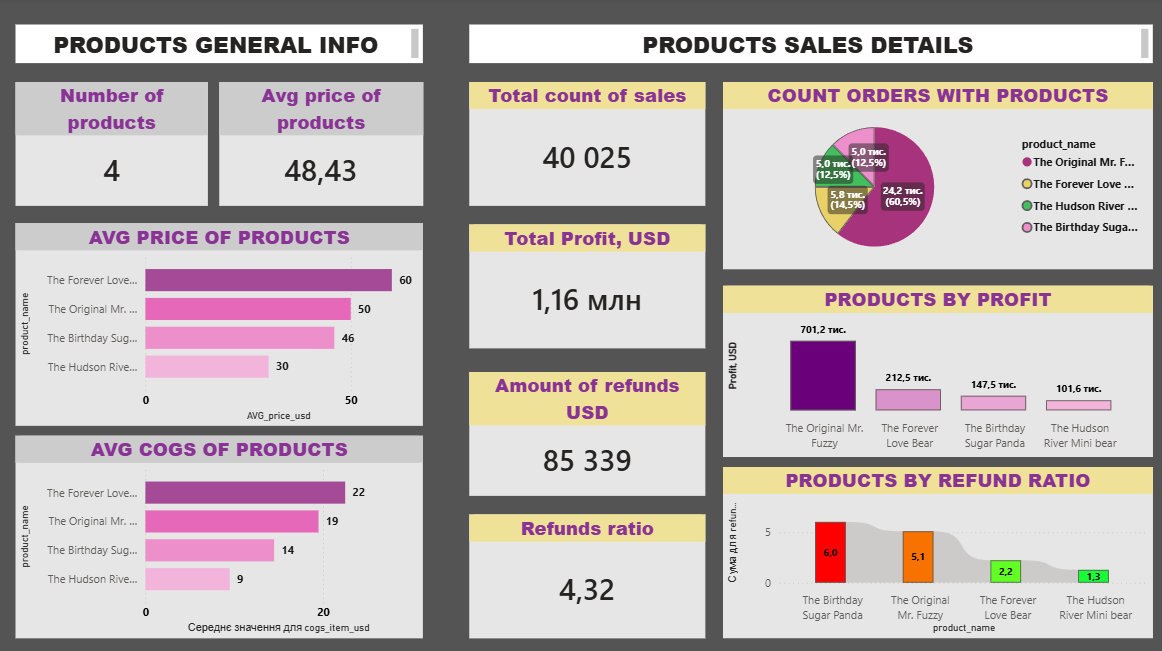

Layout of this report page (visuals, bound fields, positions):
{"tool":"powerbi","page":{"name":"Products","canvas":[1280,720],"ordinal":1},"visuals":[{"type":"barChart","title":"AVG PRICE OF PRODUCTS","fields":{"Category":["order_info.product_name"],"Y":["Avg(order_info.price_item_usd)"]},"box":[19.2,248.4,447.3,222.3],"z":0},{"type":"textbox","box":[19.2,30.2,447.3,42.5],"z":1000},{"type":"pieChart","title":"COUNT ORDERS WITH  PRODUCTS","fields":{"Category":["order_info.product_name"],"Y":["CountNonNull(order_info.order_id)"]},"box":[795.9,93.3,472,205.8],"z":2000},{"type":"textbox","box":[517.3,30.2,750.6,42.5],"z":3000},{"type":"cardVisual","title":"Number of products","fields":{"Data":["Count(order_info.product_name)"]},"box":[19.2,93.3,211.3,135.8],"z":4000},{"type":"cardVisual","title":"Avg price of products","fields":{"Data":["Avg(order_info.price_item_usd)"]},"box":[242.9,93.3,223.7,135.8],"z":5000},{"type":"cardVisual","title":"Total count of sales","fields":{"Data":["CountNonNull(order_info.price_item_usd)"]},"box":[517.3,93.3,259.3,135.8],"z":6000},{"type":"cardVisual","title":"Amount of refunds USD","fields":{"Data":["Sum(order_info.refund_amount_usd)"]},"box":[517.3,411.7,259.3,135.8],"z":7000},{"type":"cardVisual","title":"Refunds ratio","fields":{"Data":["order_info.Refunds ratio"]},"box":[517.3,568.1,259.3,135.8],"z":8000},{"type":"clusteredColumnChart","title":"PRODUCTS BY PROFIT","fields":{"Category":["product_stat.product_name"],"Y":["Sum(product_stat.profit)"]},"box":[795.9,317,472,188],"z":9000},{"type":"ribbonChart","title":"PRODUCTS BY REFUND RATIO","fields":{"Category":["product_stat.product_name"],"Y":["Sum(product_stat.refund_ratio)"]},"box":[795.9,516,472,188],"z":10000},{"type":"cardVisual","title":"Total Profit, USD","fields":{"Data":["Sum(product_stat.profit)"]},"box":[517.3,249.7,259.3,135.8],"z":11000},{"type":"barChart","title":"AVG COGS OF PRODUCTS","fields":{"Category":["order_info.product_name"],"Y":["Avg(order_info.cogs_item_usd)"]},"box":[19.2,481.6,447.3,222.3],"z":12000}]}

Visuals, with their boxes in screenshot pixels (x1, y1, x2, y2), scaled from the page's 1280x720 canvas onto the 1162x651 screenshot:
"AVG PRICE OF PRODUCTS" barChart: x1=17 y1=225 x2=423 y2=426
textbox: x1=17 y1=27 x2=423 y2=66
"COUNT ORDERS WITH  PRODUCTS" pieChart: x1=723 y1=84 x2=1151 y2=270
textbox: x1=470 y1=27 x2=1151 y2=66
"Number of products" cardVisual: x1=17 y1=84 x2=209 y2=207
"Avg price of products" cardVisual: x1=221 y1=84 x2=424 y2=207
"Total count of sales" cardVisual: x1=470 y1=84 x2=705 y2=207
"Amount of refunds USD" cardVisual: x1=470 y1=372 x2=705 y2=495
"Refunds ratio" cardVisual: x1=470 y1=514 x2=705 y2=636
"PRODUCTS BY PROFIT" clusteredColumnChart: x1=723 y1=287 x2=1151 y2=457
"PRODUCTS BY REFUND RATIO" ribbonChart: x1=723 y1=467 x2=1151 y2=637
"Total Profit, USD" cardVisual: x1=470 y1=226 x2=705 y2=349
"AVG COGS OF PRODUCTS" barChart: x1=17 y1=435 x2=423 y2=636
